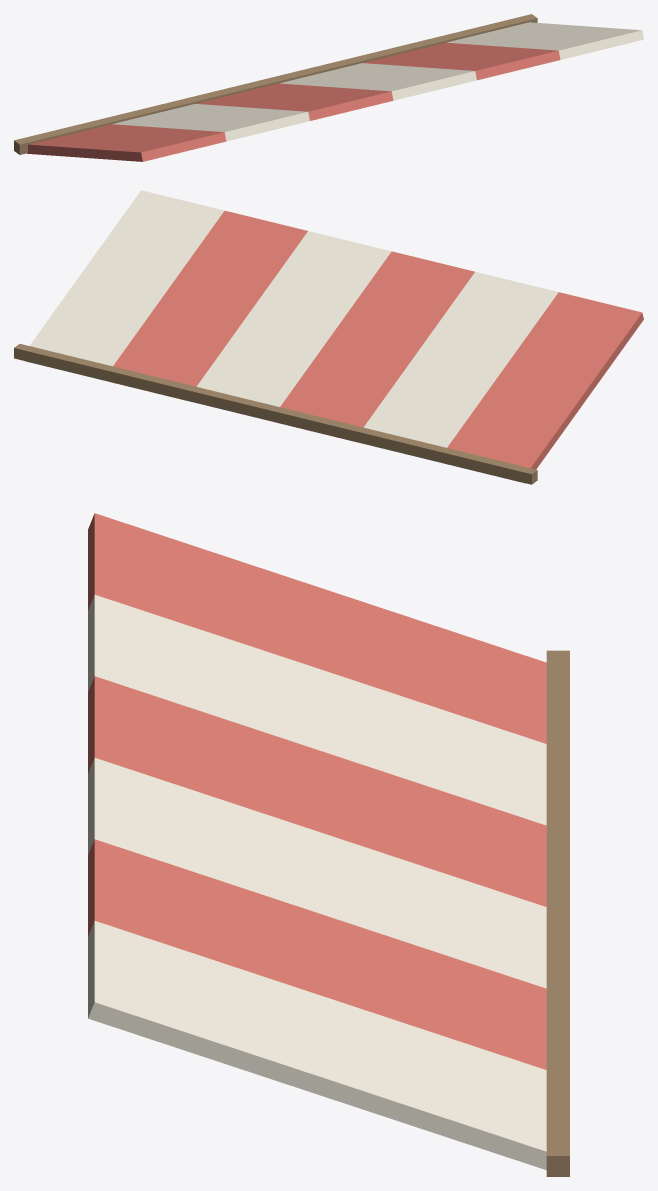
The model's file is SD_Awning.fbx.
3 views of the same model, one above another, from view 1: azimuth 30°, elevation 25°; view 2: azimuth 150°, elevation 25°; view 3: azimuth 270°, elevation 25° (orthographic). The views are drawn at different scales.
Parts seen in each view (by area): view 1: SD_Awning; view 2: SD_Awning; view 3: SD_Awning.
Boxes of the visible parts, x1,y1,x2,y2 form: SD_Awning: (14, 14, 643, 161); SD_Awning: (14, 190, 643, 484); SD_Awning: (88, 513, 569, 1176).
Size of the model in its own units: 3.1 by 0.4927 by 1.25.
